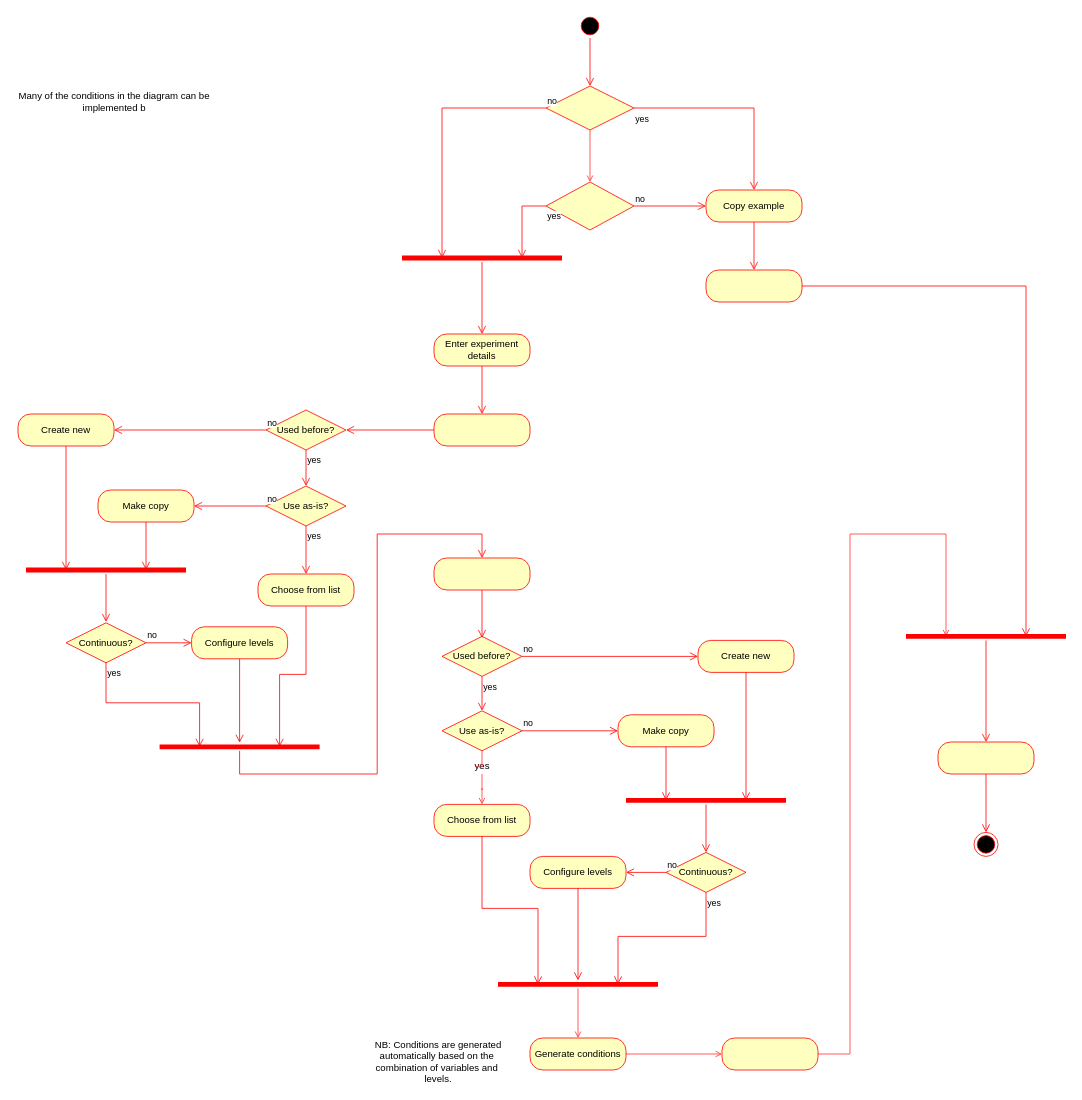
Image size: 1082x1100. Some labels were removed from this diagram. Here are the shapes that lost their labels. From the top down, the box of each, then its label:
(545, 85, 634, 130): Shared project?
(545, 181, 634, 230): Lead school?
(705, 269, 802, 302): Configure details
(433, 413, 530, 446): Configure treatment variables
(433, 557, 530, 590): Configure response variables
(937, 741, 1034, 774): Configure units/replicates
(721, 1037, 818, 1070): Configure conditions
